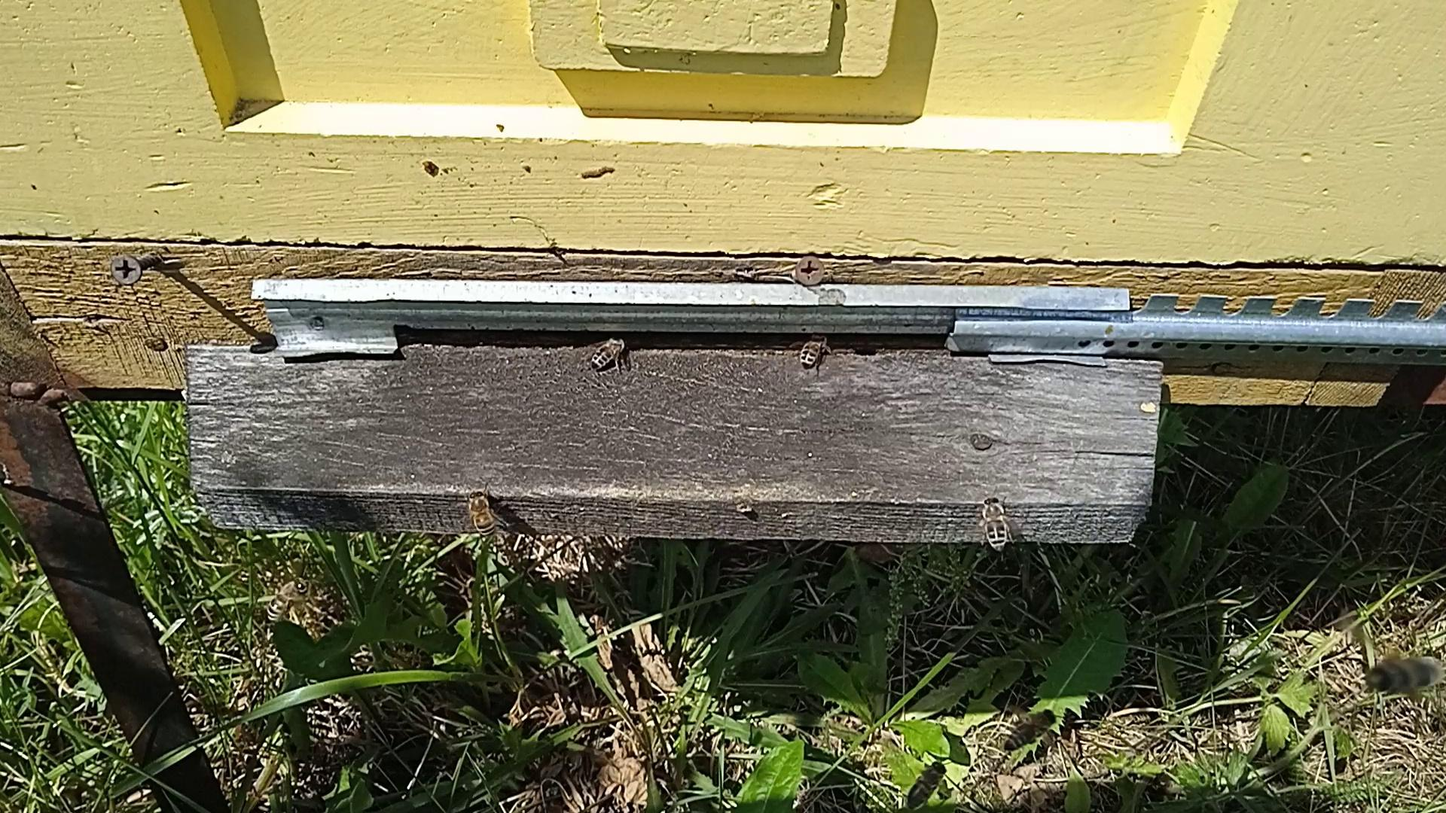worker-bee: (1365, 655, 1444, 698), (1005, 709, 1057, 751), (905, 760, 947, 809), (267, 578, 307, 623), (980, 495, 1010, 551), (588, 335, 630, 370), (467, 489, 497, 537), (796, 333, 831, 368)
